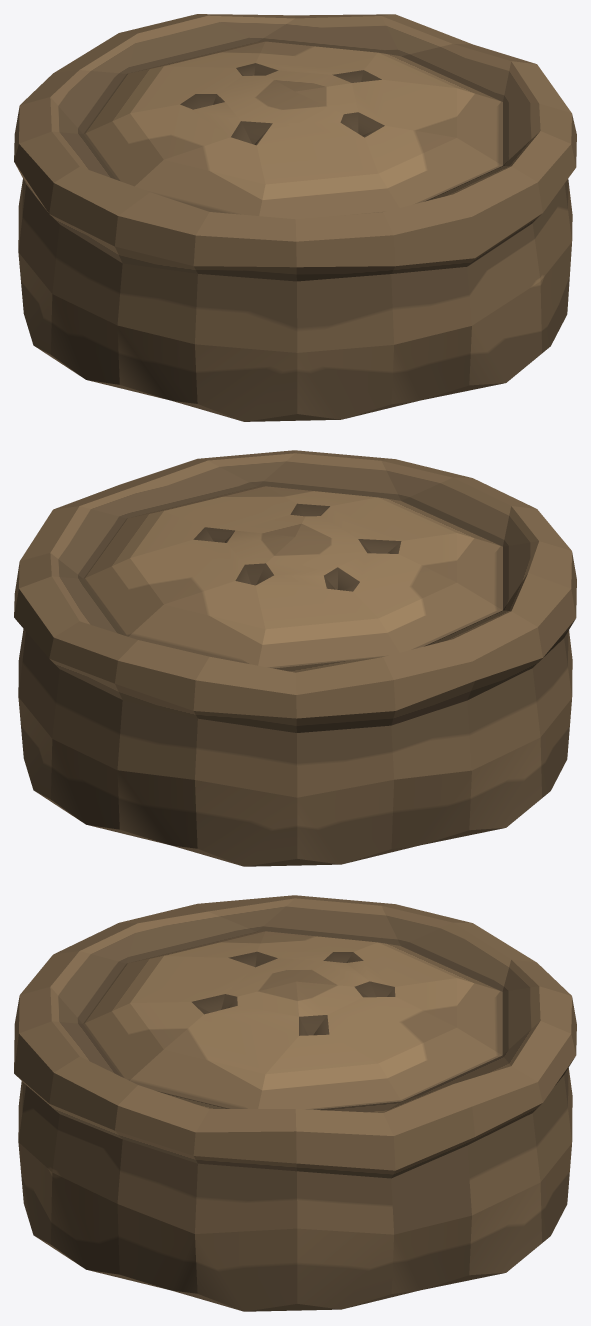
The model's file is SM_Prop_Food_Pie_01.fbx.
3 views of the same model, one above another, from view 1: azimuth 30°, elevation 25°; view 2: azimuth 150°, elevation 25°; view 3: azimuth 270°, elevation 25° (orthographic).
Visible parts, largest first — view 1: SM_Prop_Food_Pie_01; view 2: SM_Prop_Food_Pie_01; view 3: SM_Prop_Food_Pie_01.
Part boxes in pixels (bbox=[...]): SM_Prop_Food_Pie_01: bbox=[14, 14, 576, 421]; SM_Prop_Food_Pie_01: bbox=[14, 450, 576, 866]; SM_Prop_Food_Pie_01: bbox=[14, 895, 576, 1311].
Bounding box in the file's own units: 38.64 × 16.34 × 38.16.
